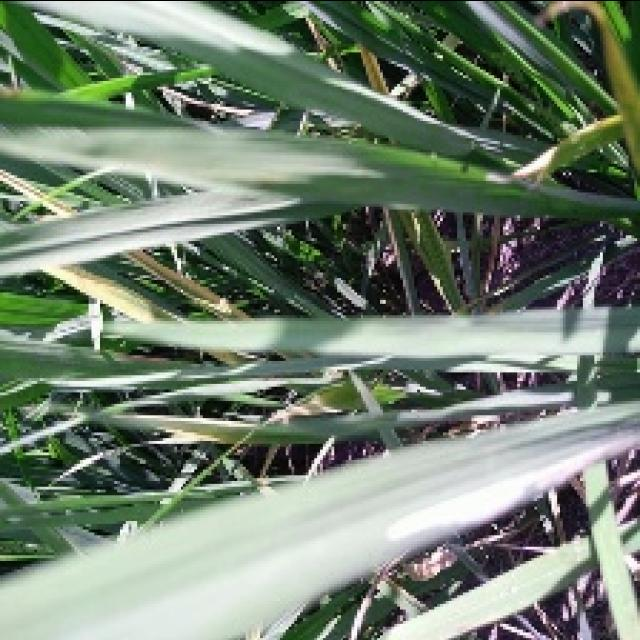Unhealthy: (534, 0, 640, 171), (123, 250, 251, 319), (43, 262, 154, 320), (0, 167, 75, 220), (487, 145, 562, 188), (159, 85, 259, 113), (270, 393, 345, 424), (405, 548, 456, 581), (360, 44, 389, 92), (117, 415, 256, 425), (149, 427, 234, 443), (570, 118, 620, 142), (383, 207, 399, 265), (308, 15, 329, 50), (207, 350, 242, 364), (0, 84, 24, 96), (129, 354, 171, 360), (326, 57, 341, 72)
